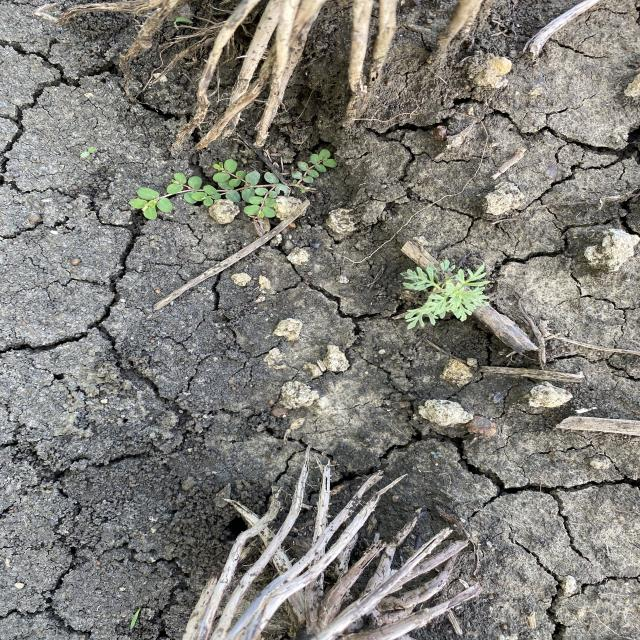Ragweed: (400, 259, 494, 332)
SpottedSpurge: (128, 148, 338, 223)
